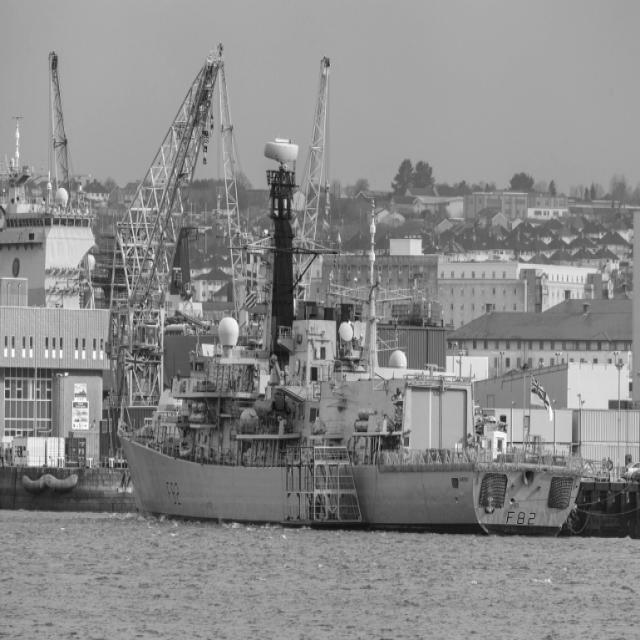Fragata: (112, 125, 587, 542)
